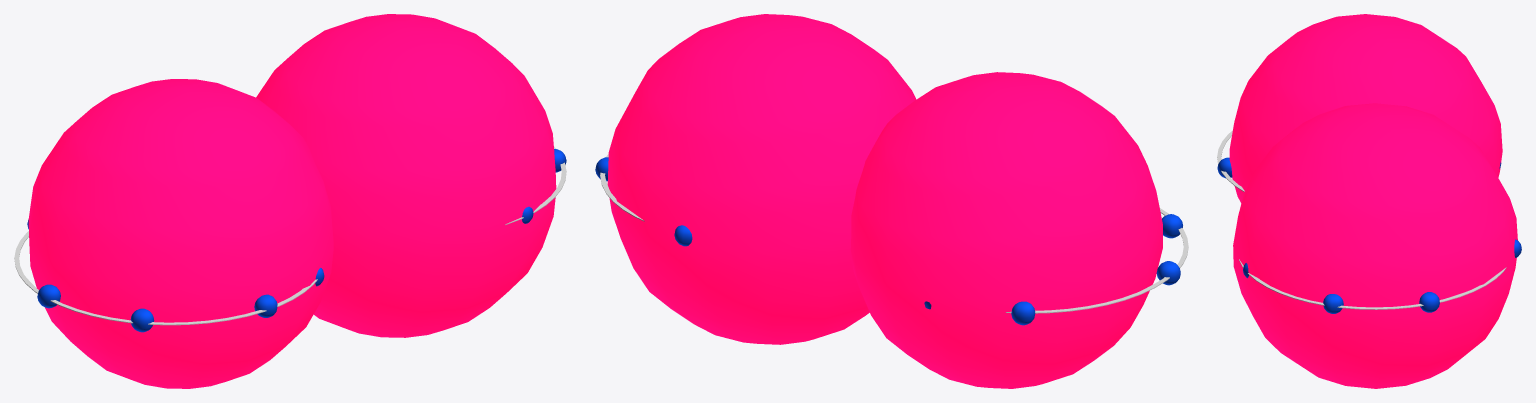
Rendered from Chlorine di.fbx.
3 views of the same model, side by side, from view 1: azimuth 30°, elevation 25°; view 2: azimuth 150°, elevation 25°; view 3: azimuth 270°, elevation 25° (orthographic). The views are drawn at different scales.
Parts seen in each view (by area): view 1: Chlorine_di; view 2: Chlorine_di; view 3: Chlorine_di.
Boxes of the visible parts, x1,y1,x2,y2 form: Chlorine_di: [14, 14, 566, 388]; Chlorine_di: [595, 14, 1188, 388]; Chlorine_di: [1217, 14, 1521, 388].
Size of the model in its own units: 632 by 336 by 359.
